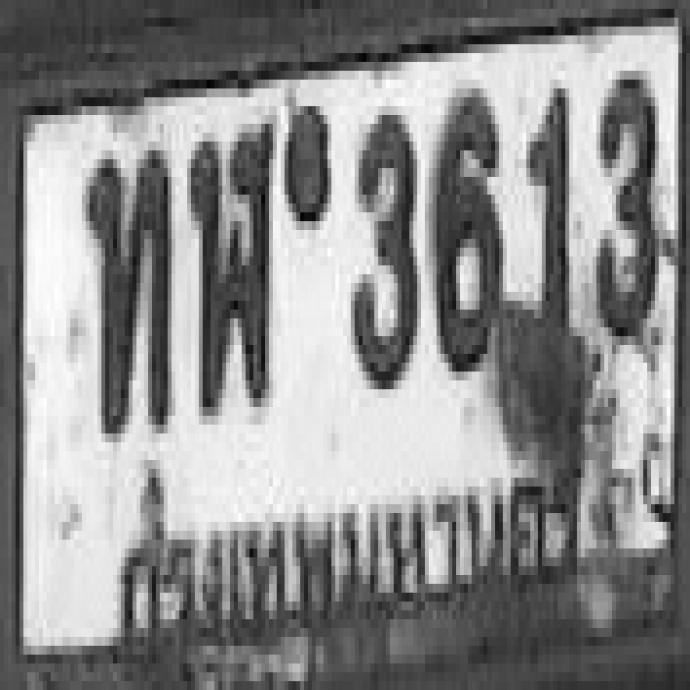1: (523, 78, 574, 344)
3: (347, 104, 413, 381), (592, 61, 655, 341)
6: (428, 81, 498, 373)
A23: (81, 146, 170, 433)
A42: (187, 117, 272, 406)
BKK: (107, 462, 586, 641)
